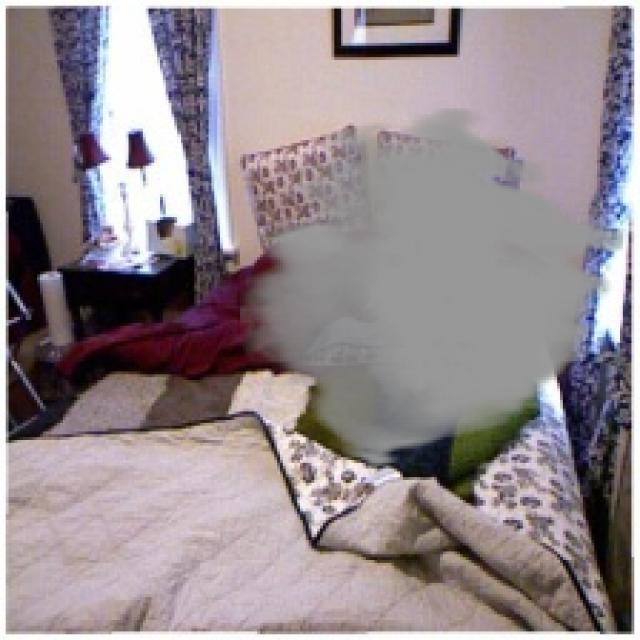smoke: (240, 106, 623, 468)
